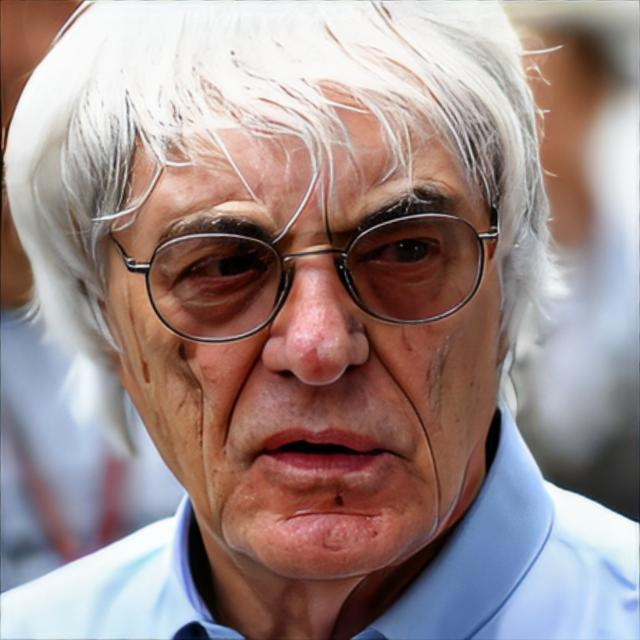disgust: (110, 64, 502, 580)
